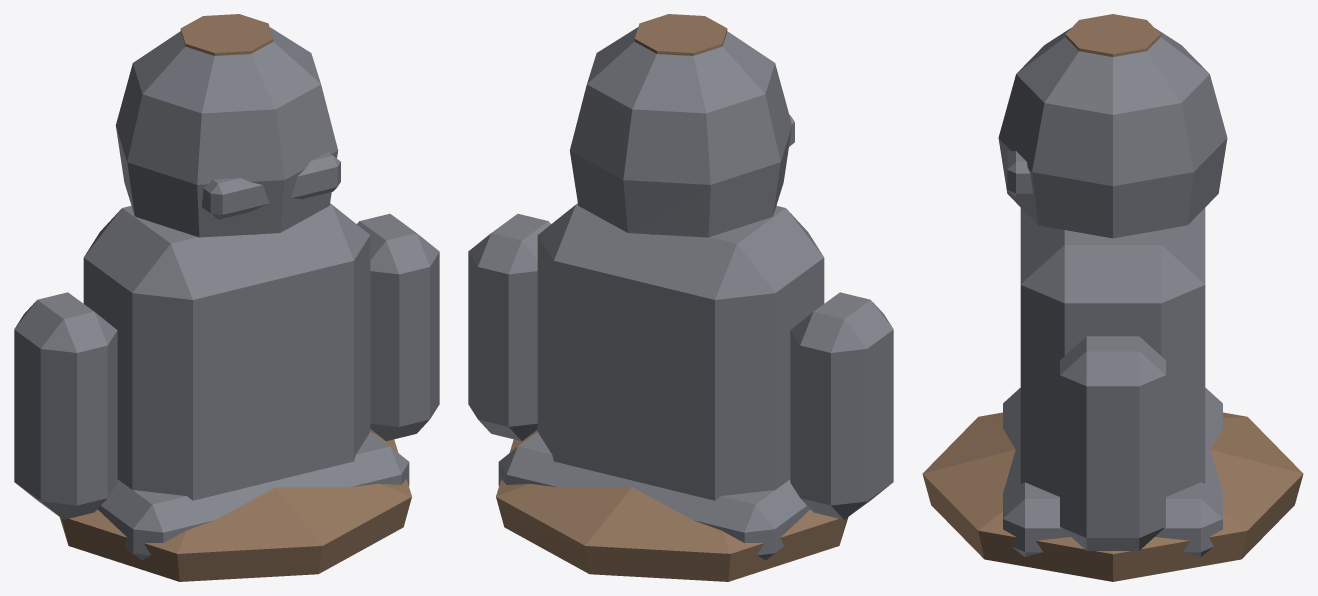
The model's file is armour_stand.glb.
The picture shows the model from 3 angles, left to right: view 1: azimuth 30°, elevation 25°; view 2: azimuth 150°, elevation 25°; view 3: azimuth 270°, elevation 25°; orthographic projection.
Visible parts, largest first — view 1: armour_stand_1, armour_stand_0; view 2: armour_stand_1, armour_stand_0; view 3: armour_stand_1, armour_stand_0.
Boxes of the visible parts, <box> form: armour_stand_1: <box>14,27,439,560</box>; armour_stand_0: <box>59,14,411,581</box>; armour_stand_1: <box>468,27,893,560</box>; armour_stand_0: <box>496,14,848,581</box>; armour_stand_1: <box>998,27,1227,556</box>; armour_stand_0: <box>922,14,1303,581</box>.
Size of the model in its own units: 1.76 by 2 by 1.47.
